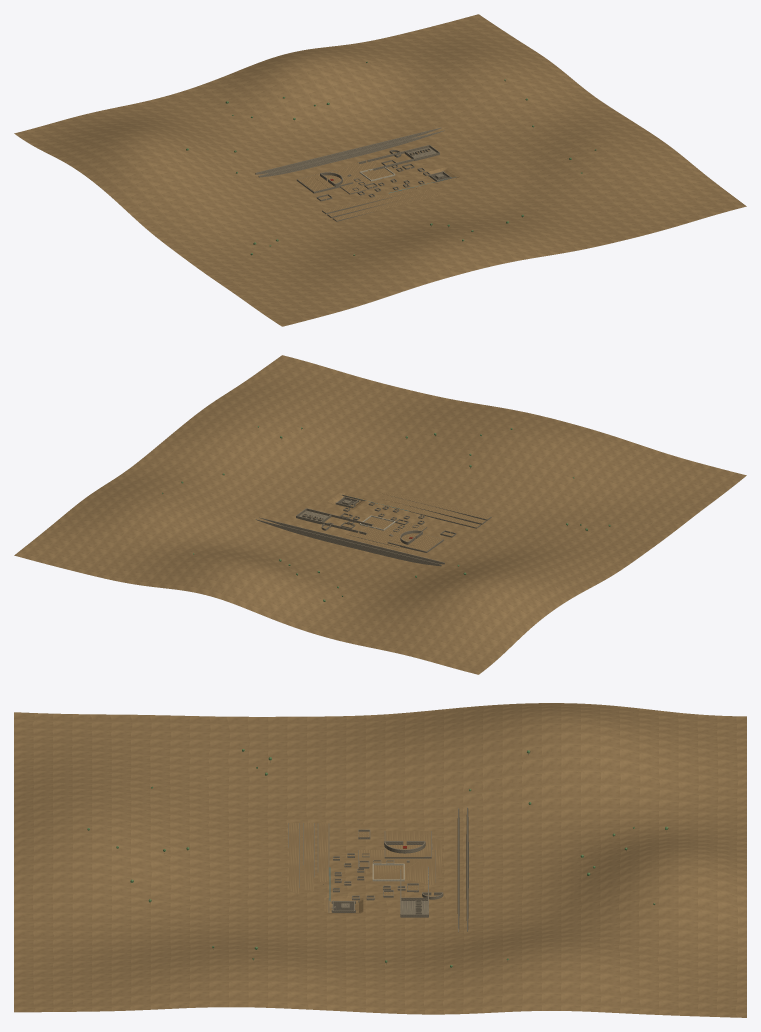
3 renders of one model, top to bottom at view 1: azimuth 30°, elevation 25°; view 2: azimuth 150°, elevation 25°; view 3: azimuth 270°, elevation 25°, orthographic. The views are drawn at different scales.
Visible parts, largest first — view 1: GEO-Wari_LOD1_Terrain, GEO-Wari_LOD1_City; view 2: GEO-Wari_LOD1_Terrain, GEO-Wari_LOD1_City; view 3: GEO-Wari_LOD1_Terrain, GEO-Wari_LOD1_City.
Part boxes in pixels (x1=…): GEO-Wari_LOD1_Terrain: x1=14, y1=14, x2=746, y2=326; GEO-Wari_LOD1_City: x1=255, y1=127, x2=456, y2=221; GEO-Wari_LOD1_Terrain: x1=14, y1=355, x2=746, y2=674; GEO-Wari_LOD1_City: x1=255, y1=492, x2=491, y2=566; GEO-Wari_LOD1_Terrain: x1=14, y1=703, x2=746, y2=1017; GEO-Wari_LOD1_City: x1=288, y1=807, x2=468, y2=932.
Bounding box in the file's own units: 900 × 54.41 × 900.
9 materials, 5 textured.
